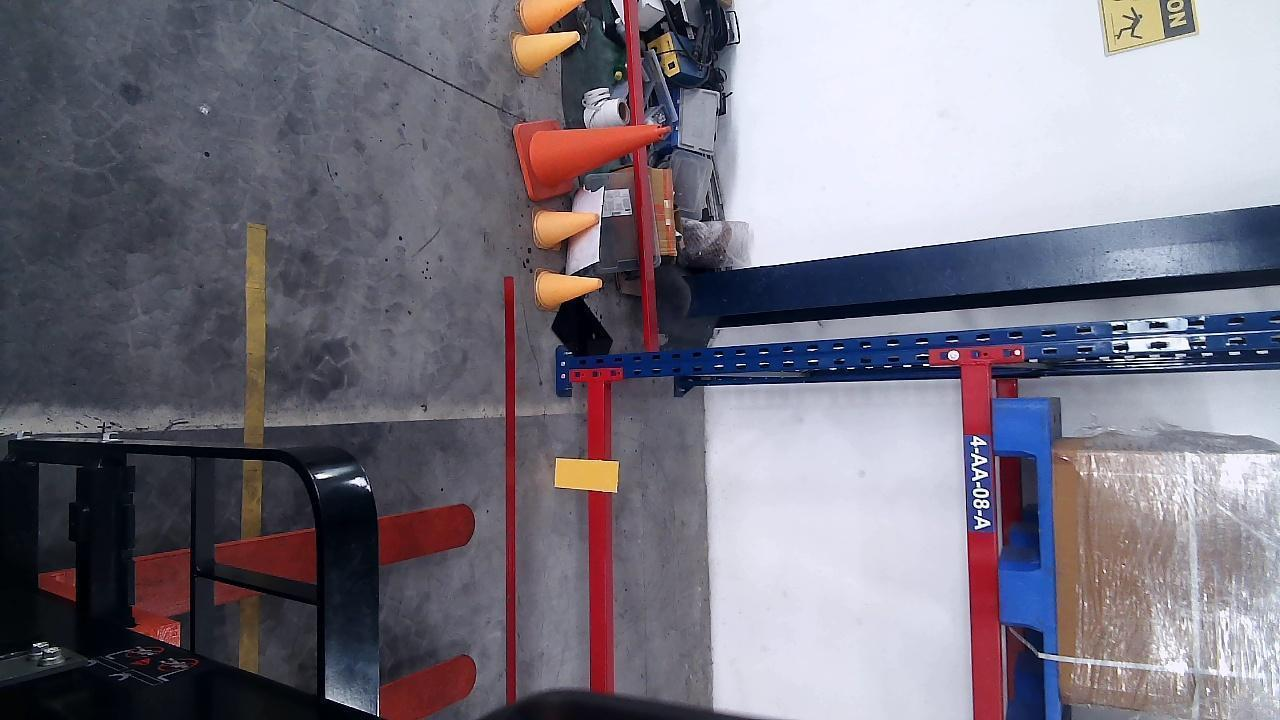red_line: (500, 276, 520, 703)
yellow_line: (238, 224, 267, 671)
